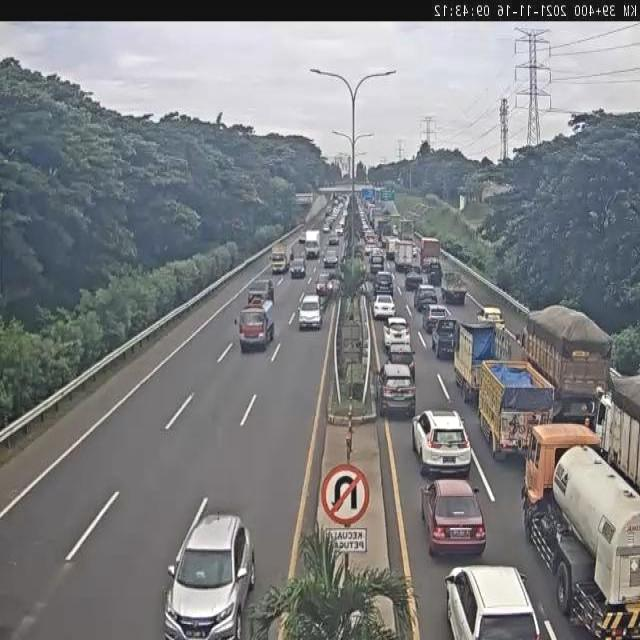Car: (162, 510, 254, 638), (445, 565, 541, 638), (420, 478, 486, 558), (411, 408, 471, 478), (377, 362, 417, 417), (431, 317, 459, 359), (383, 318, 411, 351), (298, 295, 323, 329), (423, 304, 449, 336), (414, 284, 438, 312), (373, 294, 396, 321), (288, 256, 308, 280), (405, 271, 423, 292)
Truck: (523, 423, 640, 637), (521, 305, 614, 428), (478, 360, 555, 462), (596, 374, 640, 510), (453, 323, 503, 403), (237, 298, 275, 352), (418, 235, 441, 274), (268, 244, 292, 277), (394, 240, 416, 273), (304, 230, 320, 260)
